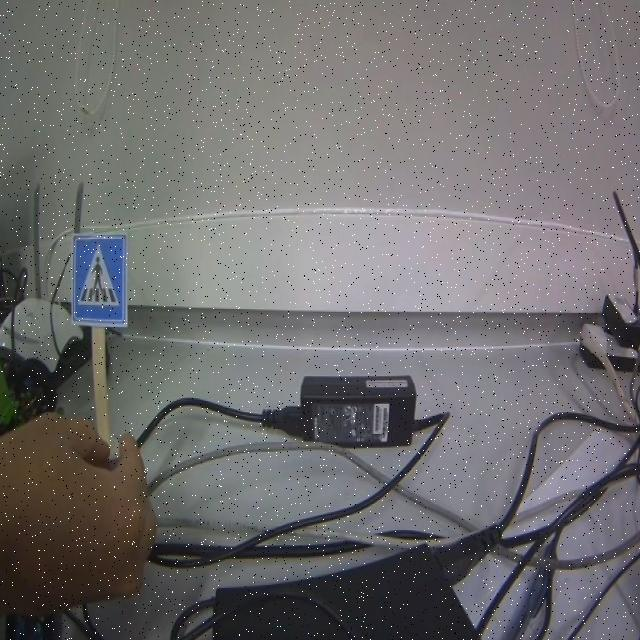Rambu Penyebrangan: (71, 233, 129, 327)
